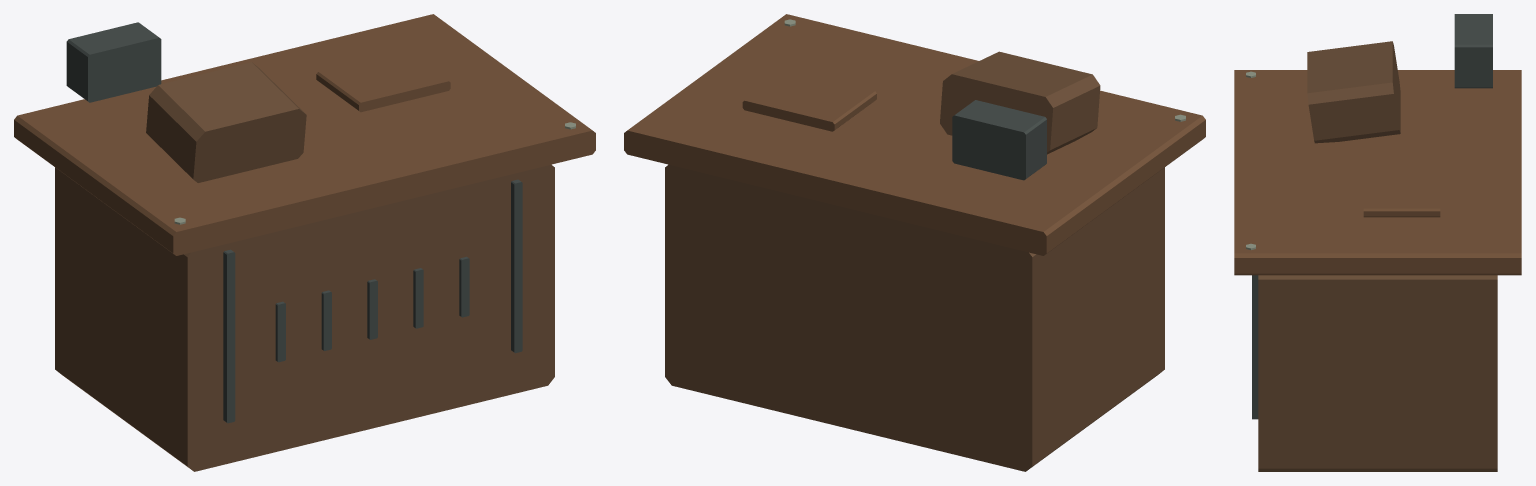
Rendered from SalvageBench.gltf.
3 renders of one model, left to right at view 1: azimuth 30°, elevation 25°; view 2: azimuth 150°, elevation 25°; view 3: azimuth 270°, elevation 25°, orthographic. The views are drawn at different scales.
Parts seen in each view (by area): view 1: SalvageBench; view 2: SalvageBench; view 3: SalvageBench.
Boxes of the visible parts, x1,y1,x2,y2 form: SalvageBench: [14, 14, 595, 471]; SalvageBench: [624, 14, 1205, 471]; SalvageBench: [1234, 14, 1521, 471].
Bounding box in the file's own units: 0.92 × 0.7 × 0.6.
